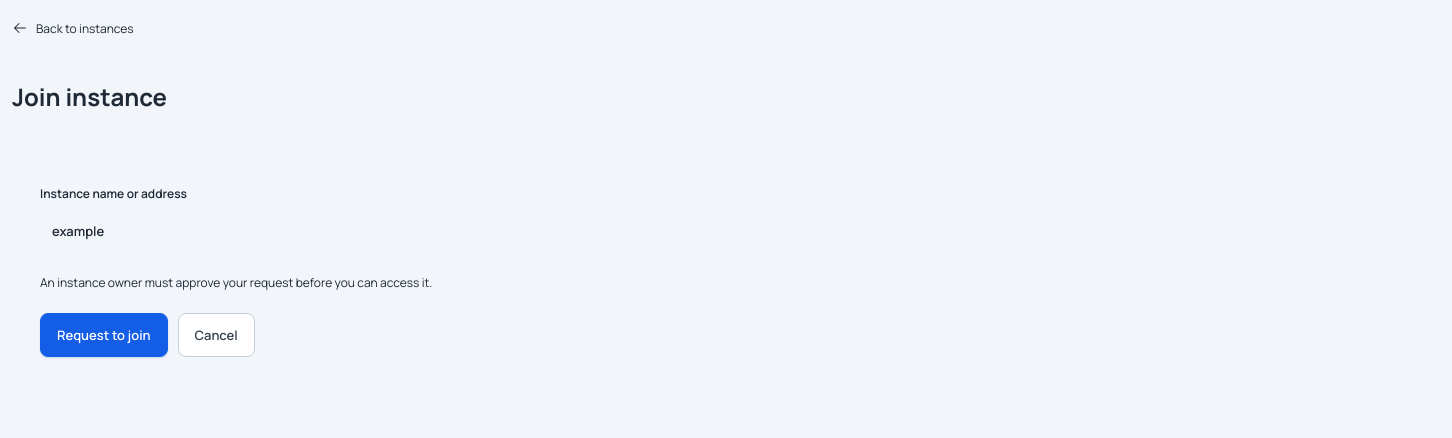
Scenario: keeps a failed join request open so the user can correct it
Type "missing" into the field labelled "Instance name or address" at (732, 231), box [40, 209, 1424, 253]
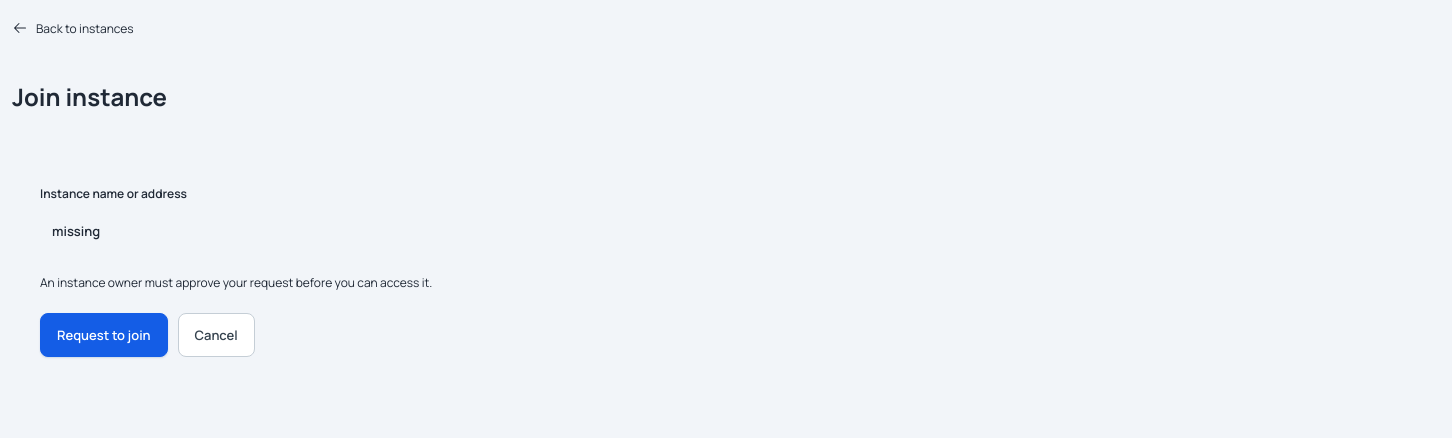
Submit the form labelled "Instance name or address", box [12, 157, 1451, 385]
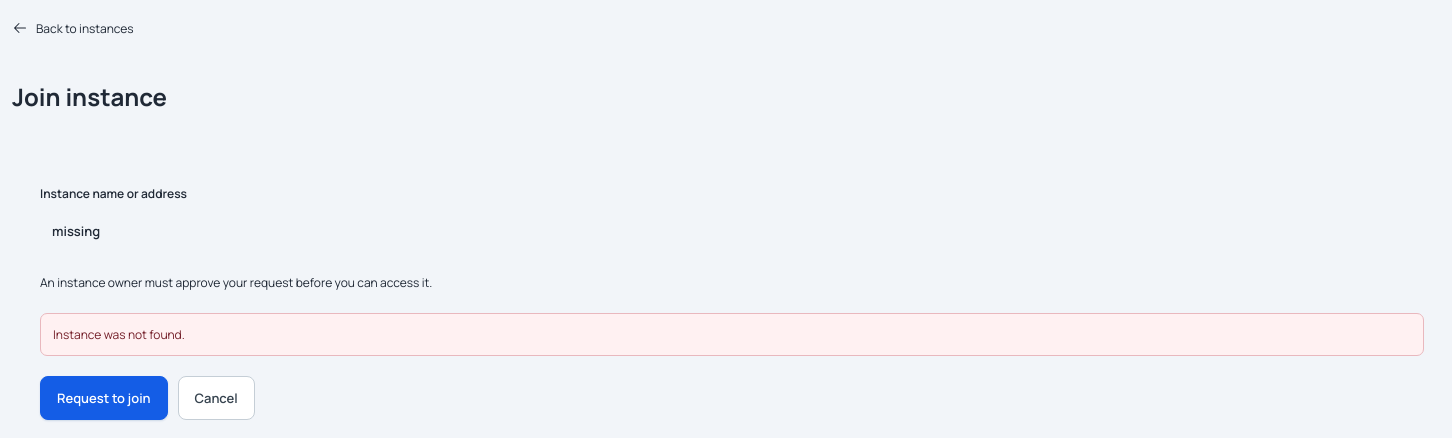
Check: the message reads "Instance was not found.", box [53, 326, 185, 343]
